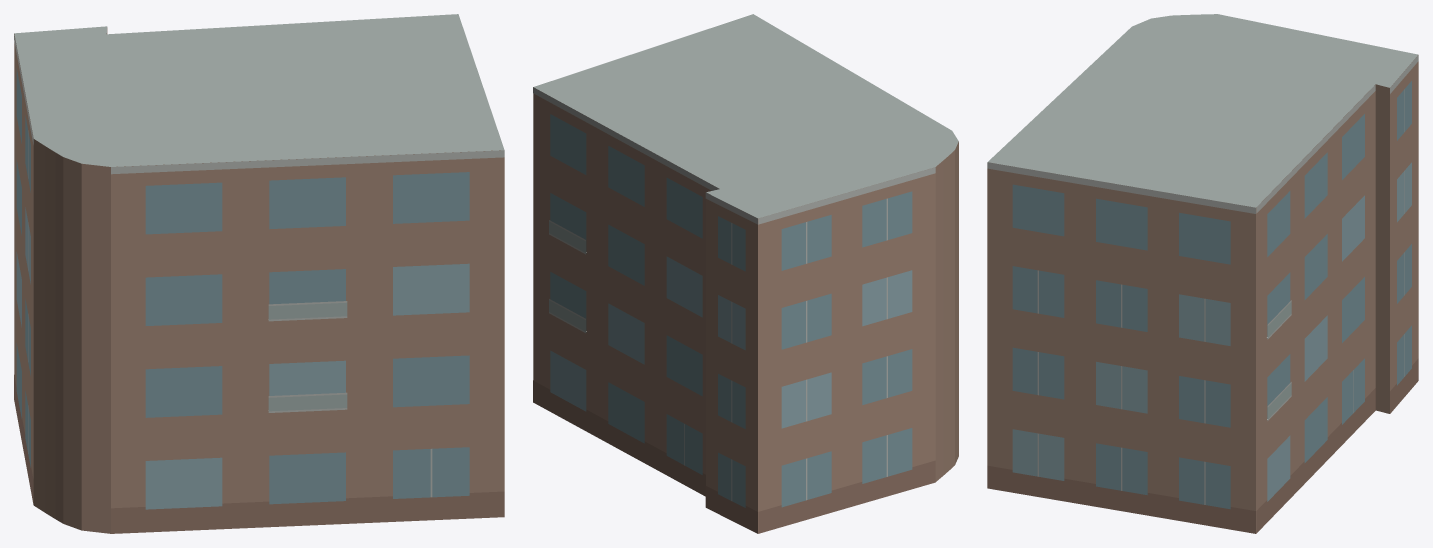
The model's file is survey-upis-32527545.glb.
3 views of the same model, side by side, from view 1: azimuth 30°, elevation 25°; view 2: azimuth 150°, elevation 25°; view 3: azimuth 270°, elevation 25° (orthographic). The views are drawn at different scales.
Visible parts, largest first — view 1: survey-upis-32527545.tmp; view 2: survey-upis-32527545.tmp; view 3: survey-upis-32527545.tmp.
Boxes of the visible parts, x1,y1,x2,y2 form: survey-upis-32527545.tmp: (14,14,504,533); survey-upis-32527545.tmp: (533,14,958,533); survey-upis-32527545.tmp: (987,14,1418,533).
Bounding box in the file's own units: 15.8 × 12.4 × 14.86.
